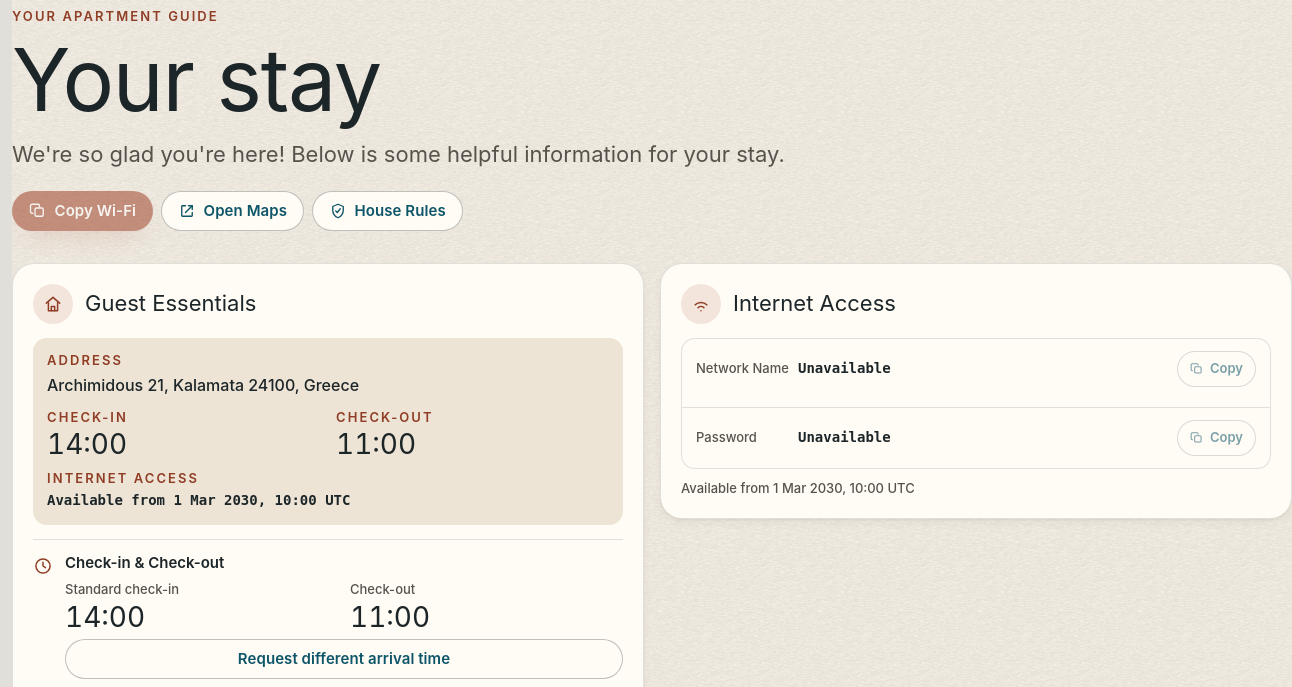
Test: check-in Wi-Fi refetch at the disclosure time › keeps the confirmation of a request sent between the disclosure time and the refetch
Expected: the text "14:00" below "Archimidous 21, Kalamata 24100, Greece" is shown, [47,427,127,461]
Step 1. Click the button "Request different arrival time" → point(344, 659), box [65,639,623,679]
Wait 5500 ms
(page scrolled)
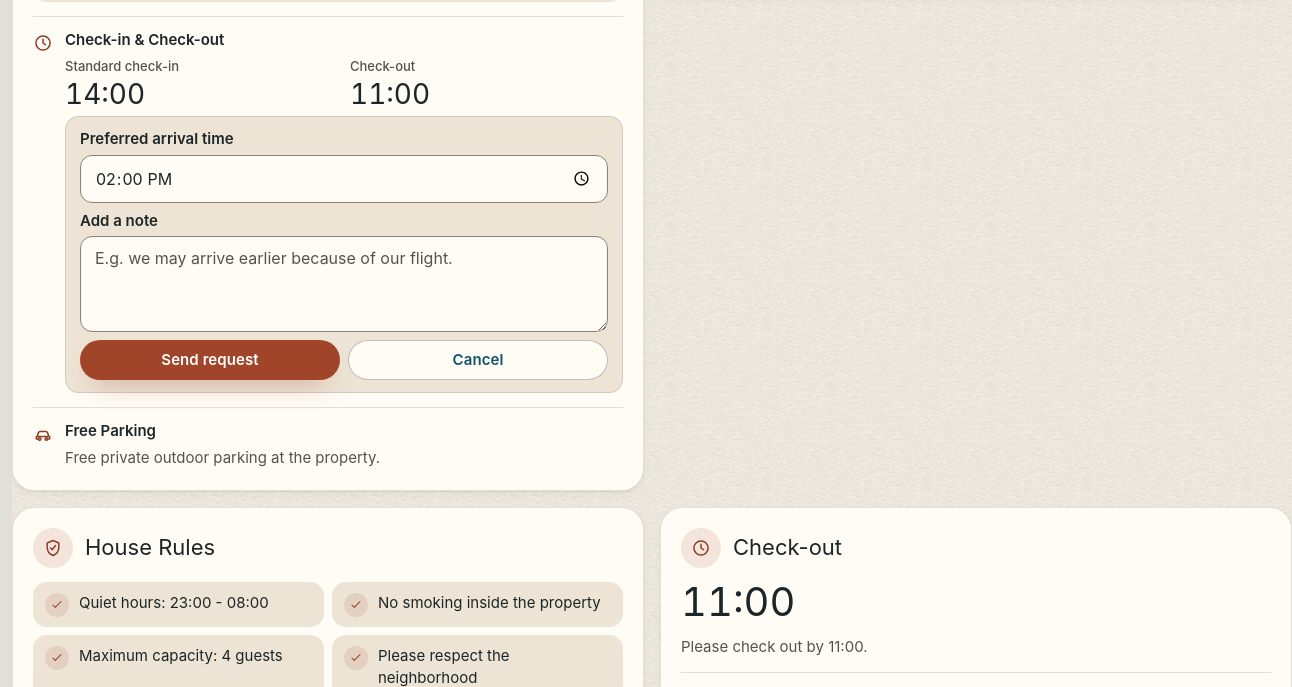
Step 2. Click the button "Send request" → point(210, 360), box [80,340,340,380]
Wait 60000 ms
(page scrolled)
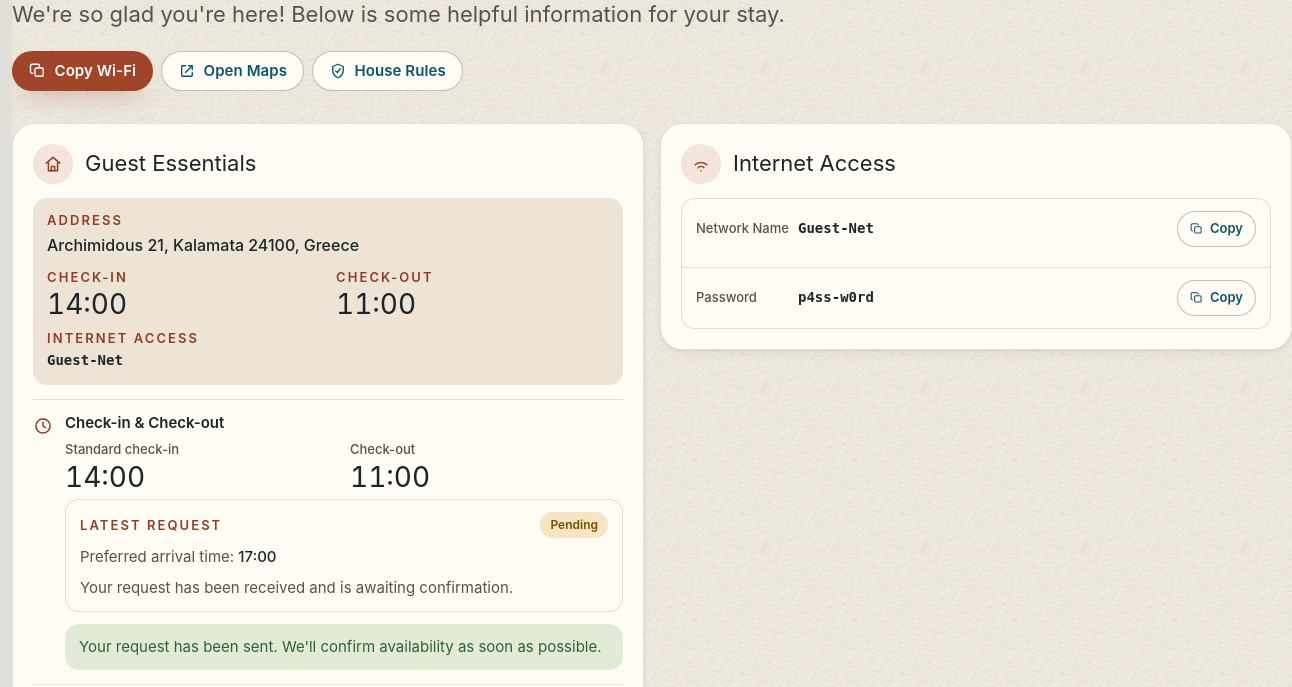
Result: the message reads "Your request has been sent. We'll confirm availability as soon as possible." at [79,637,602,656]
Result: the text "Your request has been sent. We'll confirm availability as soon as possible." is shown at [65,624,623,670]
Result: the text "Guest-Net" below "Archimidous 21, Kalamata 24100, Greece" is shown at [47,352,123,368]
